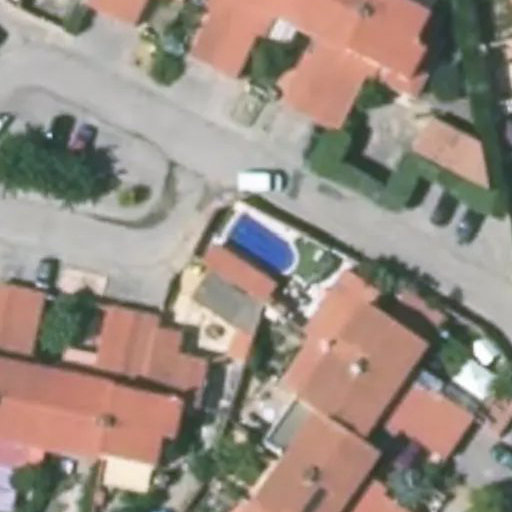pool: (222, 241, 298, 248)
